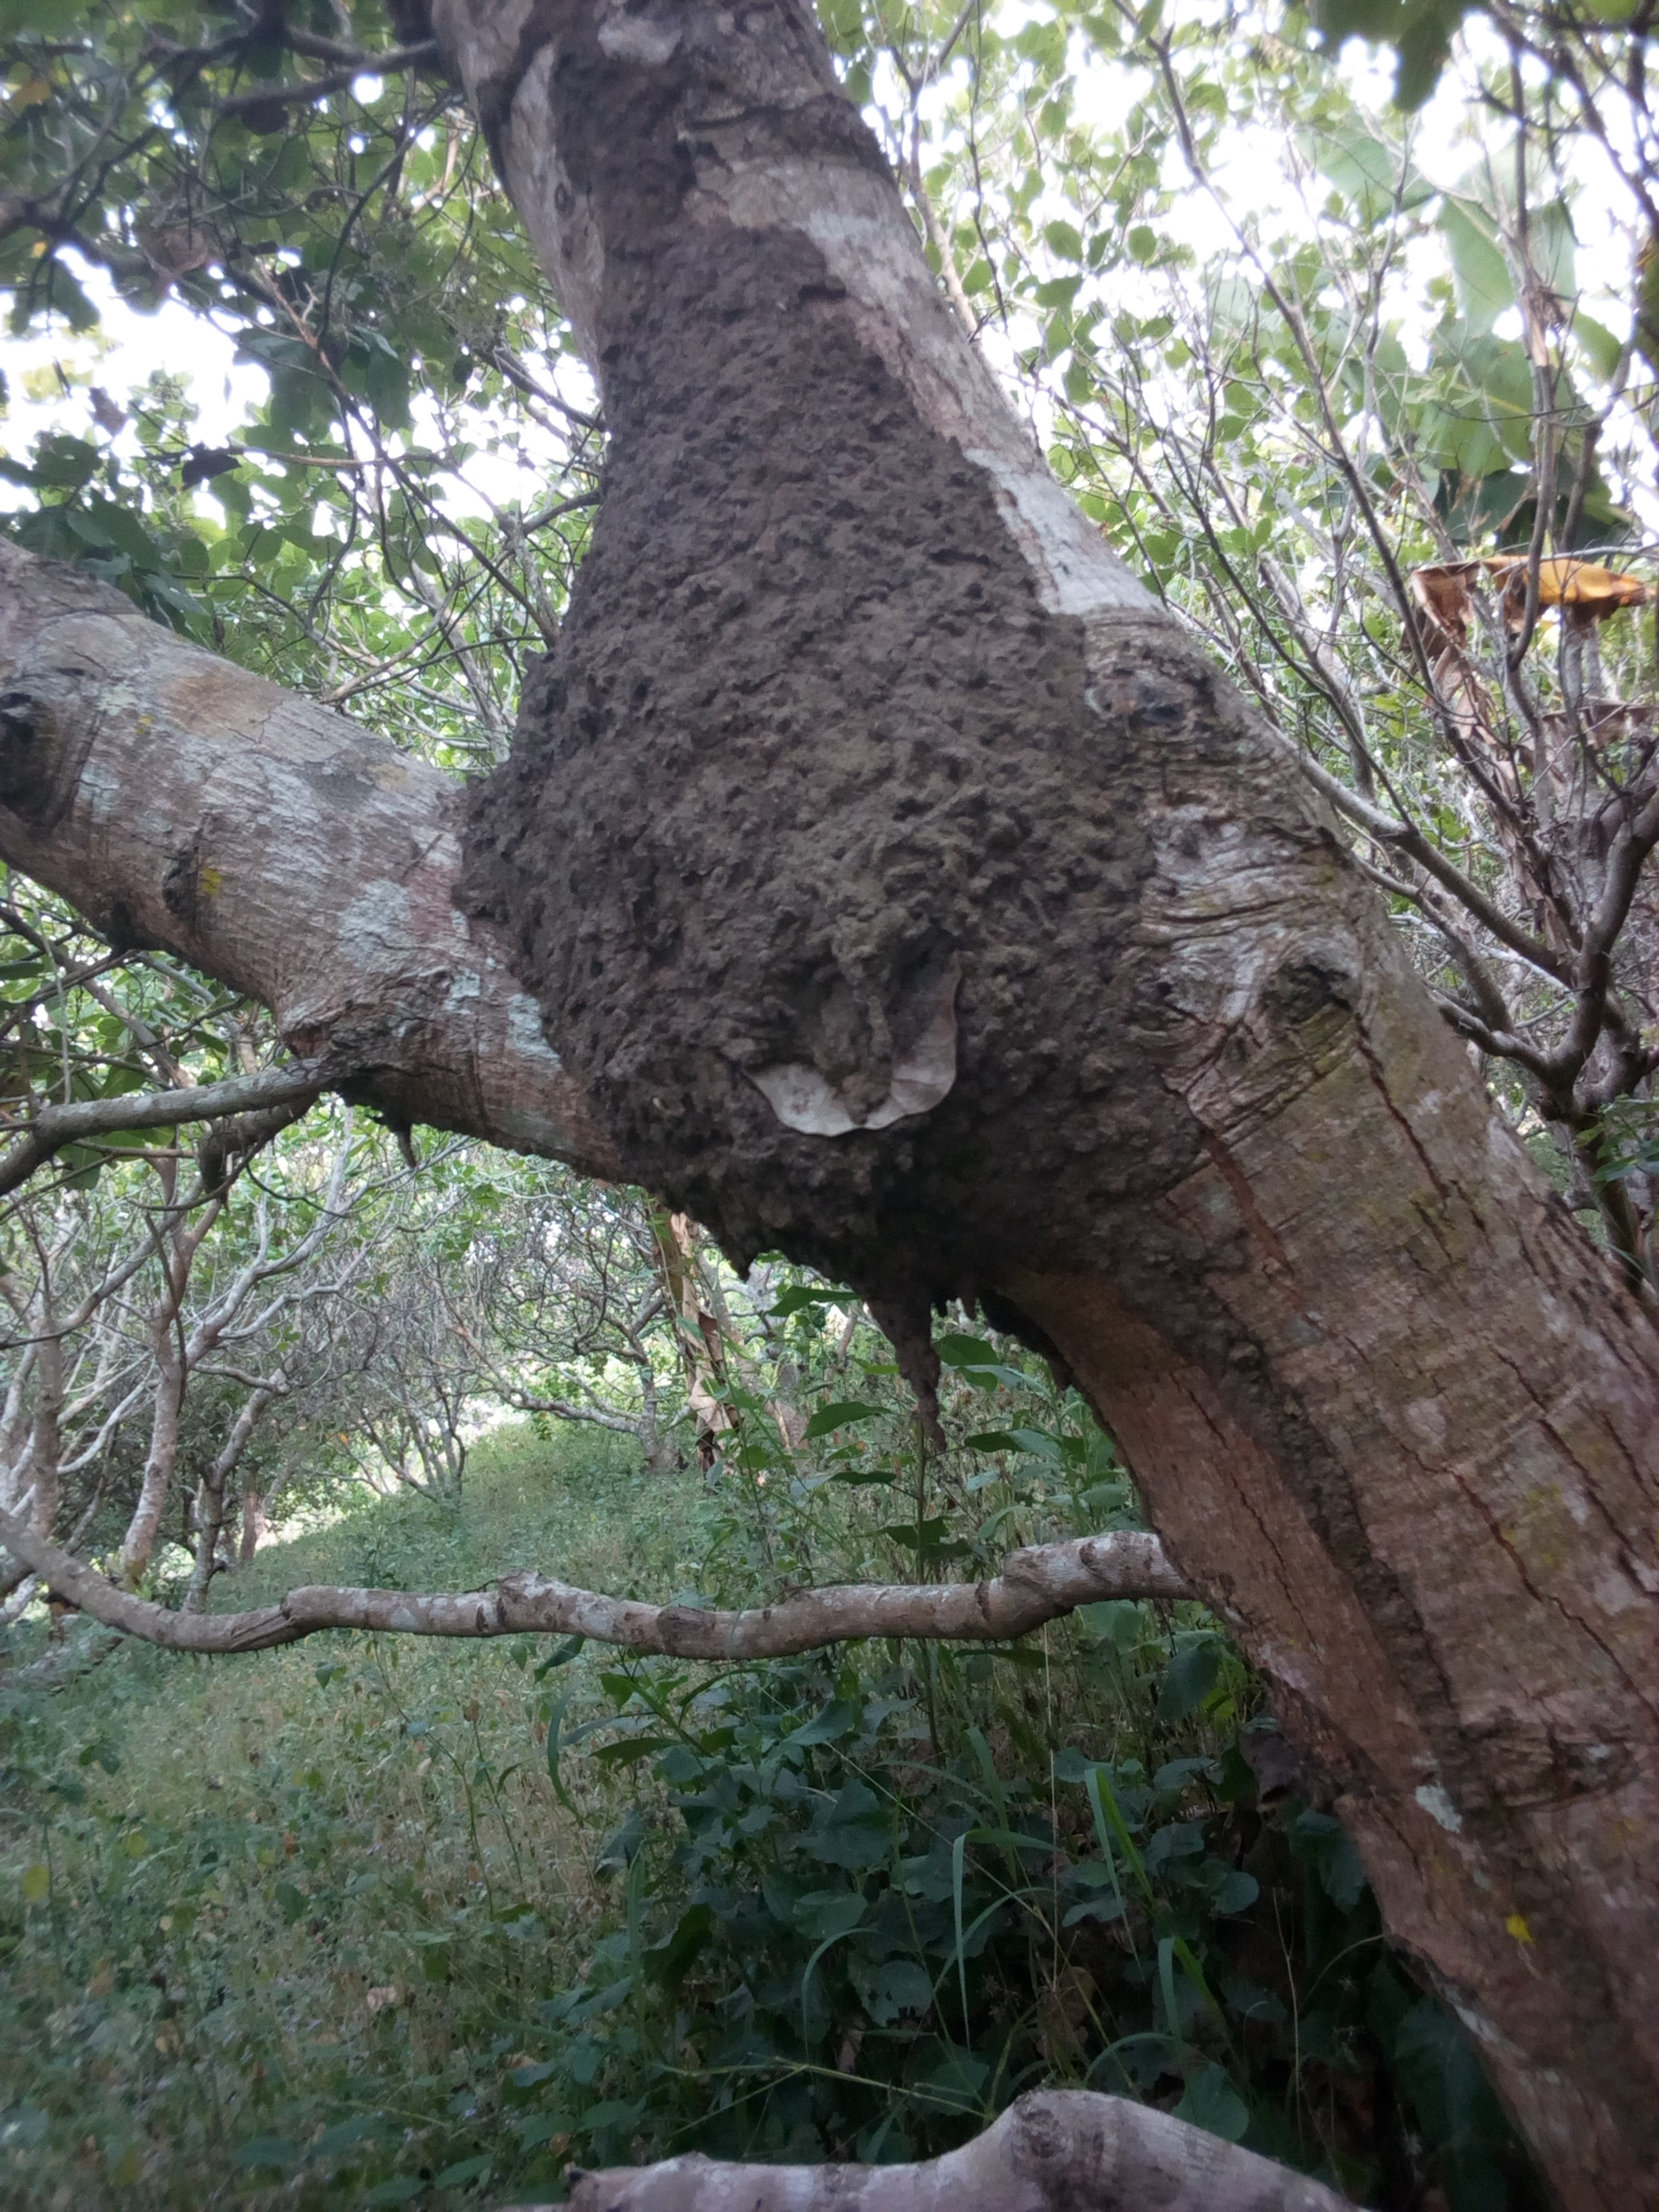Termites: (572, 300, 1155, 1325), (1256, 1390, 1579, 1994)
